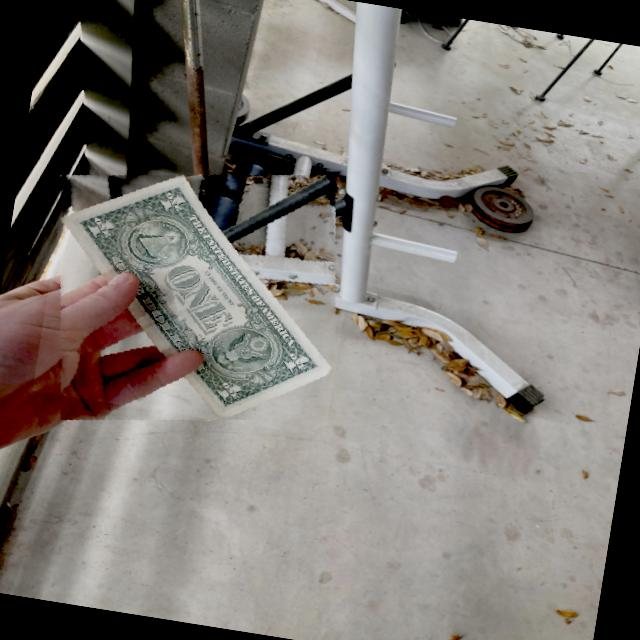one: (58, 144, 336, 450)
